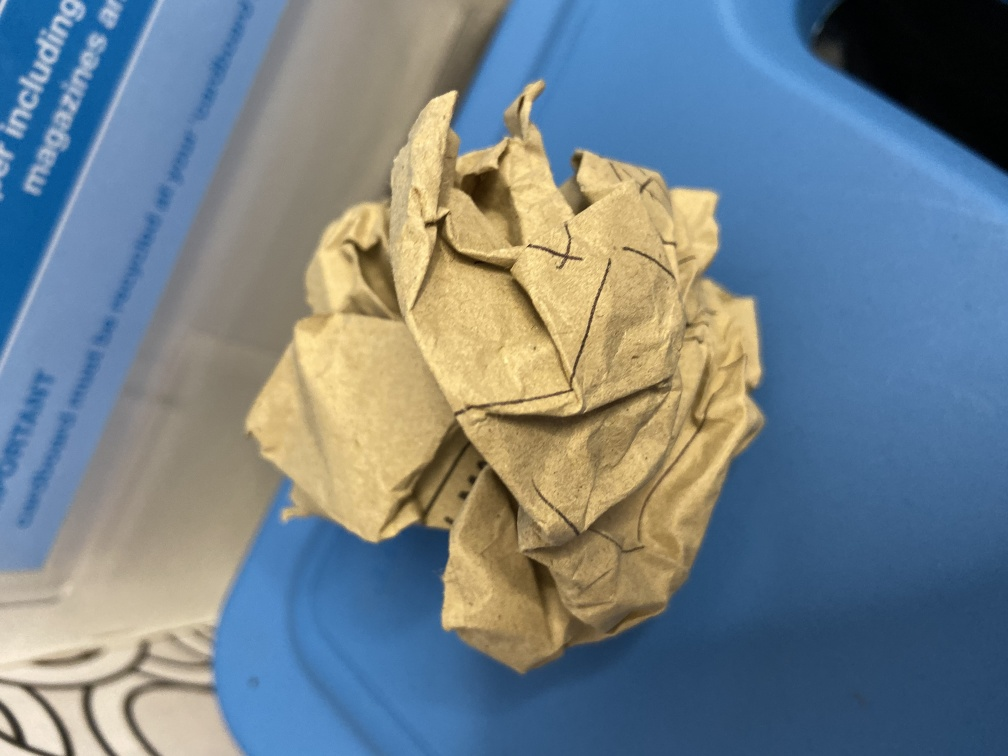paper_brown: (240, 77, 772, 683)
